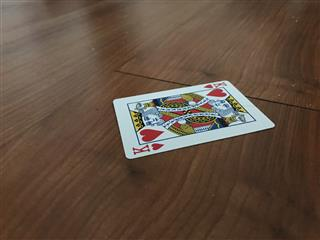KingOfHearts: (112, 79, 275, 159)
